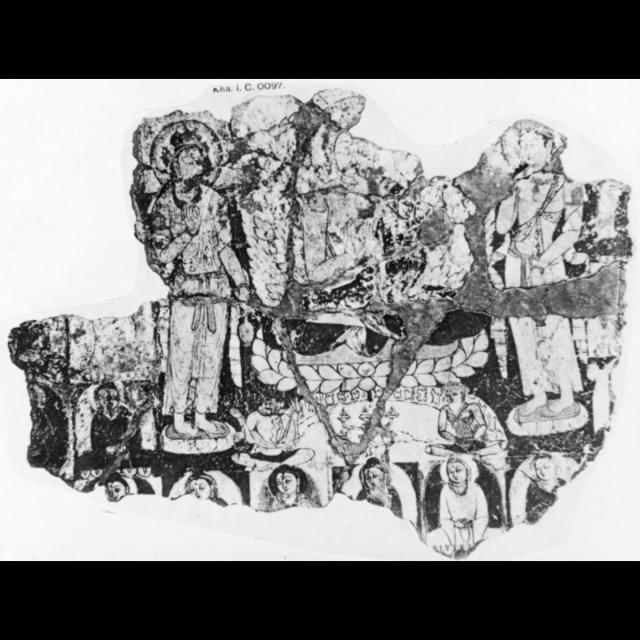buddha-standing: (137, 123, 255, 456)
